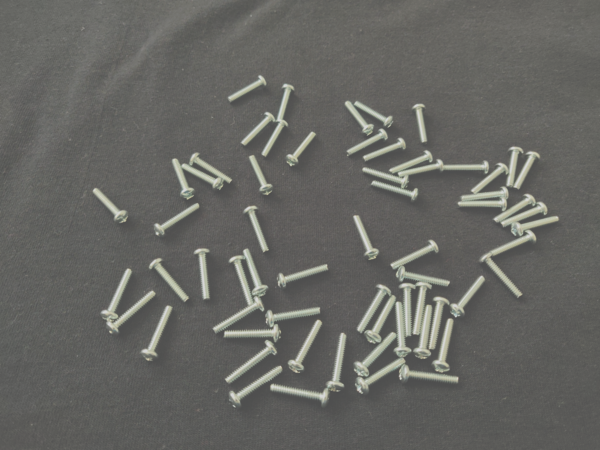longscrew: (228, 365, 286, 410), (224, 339, 279, 385), (105, 290, 157, 337), (478, 252, 525, 300), (139, 305, 178, 362), (210, 296, 266, 335), (353, 331, 398, 378), (287, 319, 324, 375), (354, 358, 408, 396), (149, 258, 191, 304), (356, 284, 393, 336), (99, 267, 133, 323), (152, 202, 200, 239), (364, 294, 398, 346), (449, 275, 487, 319), (390, 239, 440, 272), (270, 383, 331, 410), (431, 318, 459, 373), (276, 263, 330, 291), (189, 152, 233, 186), (399, 364, 461, 388), (241, 248, 270, 299), (488, 230, 538, 259), (491, 193, 537, 224), (228, 255, 255, 307), (325, 332, 348, 393), (395, 265, 451, 290), (351, 214, 380, 262), (242, 205, 270, 254), (499, 201, 549, 228), (470, 162, 510, 195), (240, 111, 276, 147), (181, 163, 224, 193), (92, 188, 127, 224), (223, 323, 283, 344), (265, 307, 322, 329), (392, 300, 413, 359), (371, 179, 420, 204), (412, 302, 433, 360), (346, 128, 389, 156), (260, 119, 290, 159), (227, 75, 268, 104), (354, 100, 395, 129), (286, 131, 319, 167), (429, 296, 451, 350), (344, 100, 376, 137), (362, 166, 410, 190), (362, 137, 408, 162), (248, 154, 274, 197), (513, 151, 541, 190), (389, 150, 434, 174), (511, 216, 560, 238), (171, 157, 196, 200), (398, 282, 417, 338), (413, 281, 432, 337), (193, 248, 213, 301), (398, 159, 445, 179), (456, 196, 508, 213), (275, 82, 296, 124), (505, 146, 524, 189), (442, 160, 490, 177), (460, 186, 510, 202), (412, 103, 430, 146)
